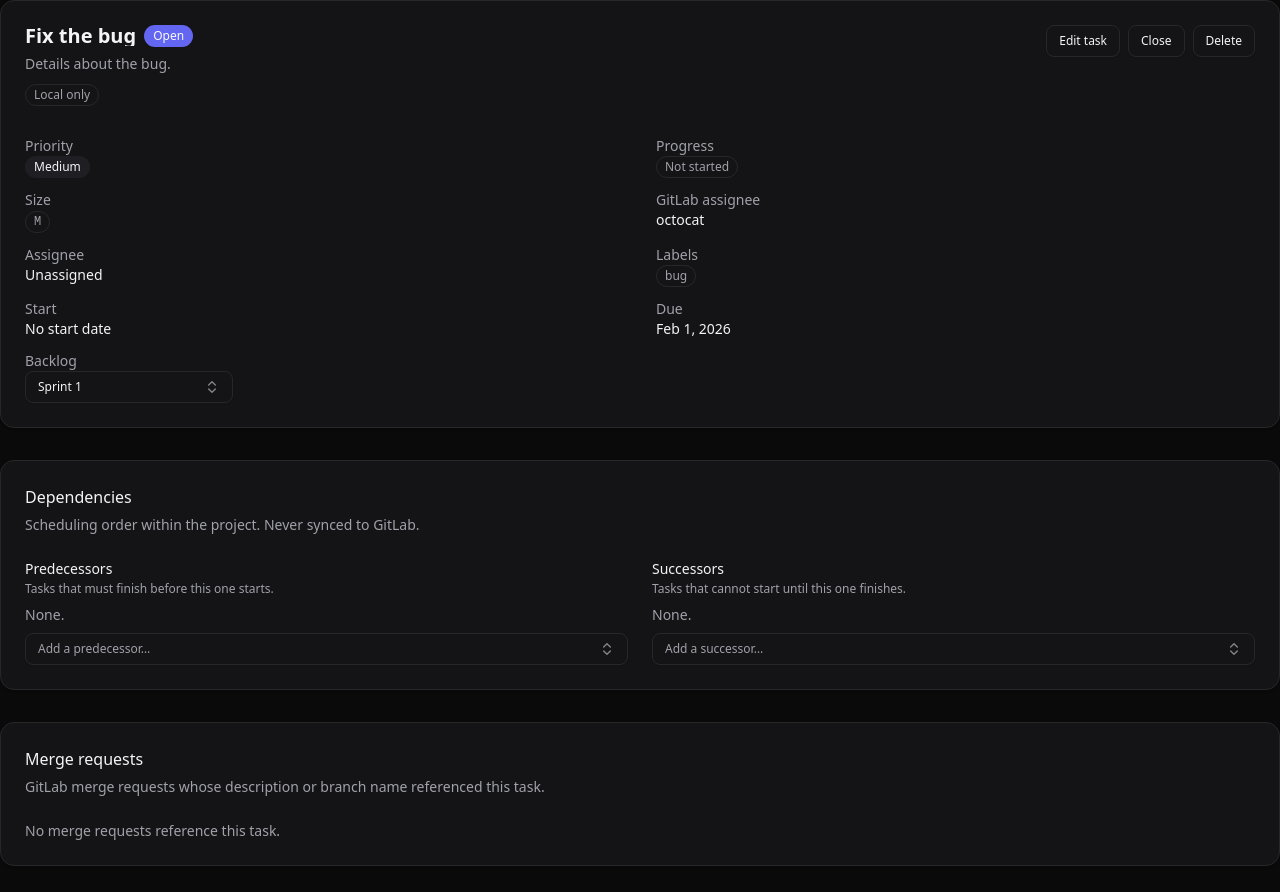
Test case: TaskDetail › leaves the task unchanged when the edit is cancelled
Click the button "Edit task" at (1083, 41), box [1046,25,1120,57]
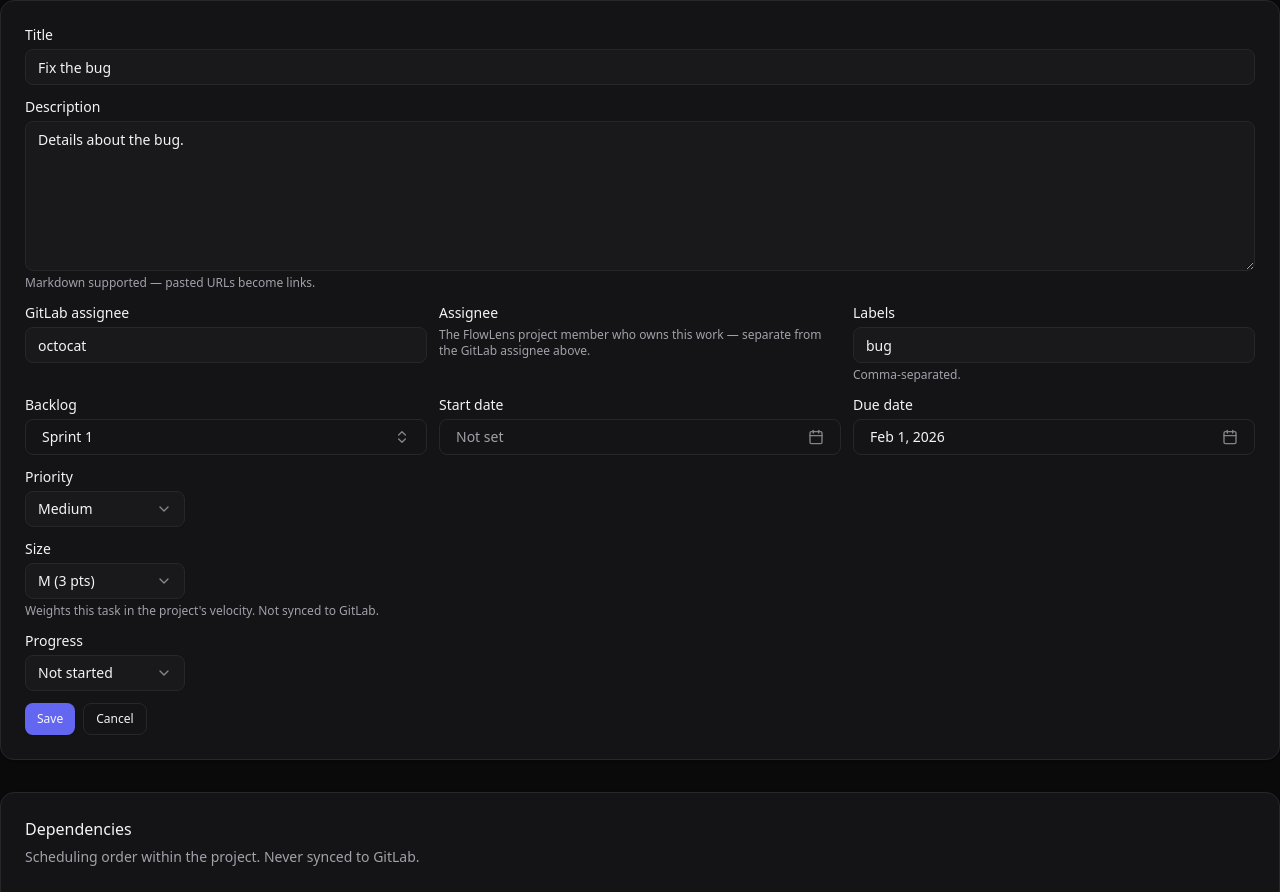
Replace the text in the field labelled "Title" with "Discarded" at (640, 67), box [25,49,1255,85]
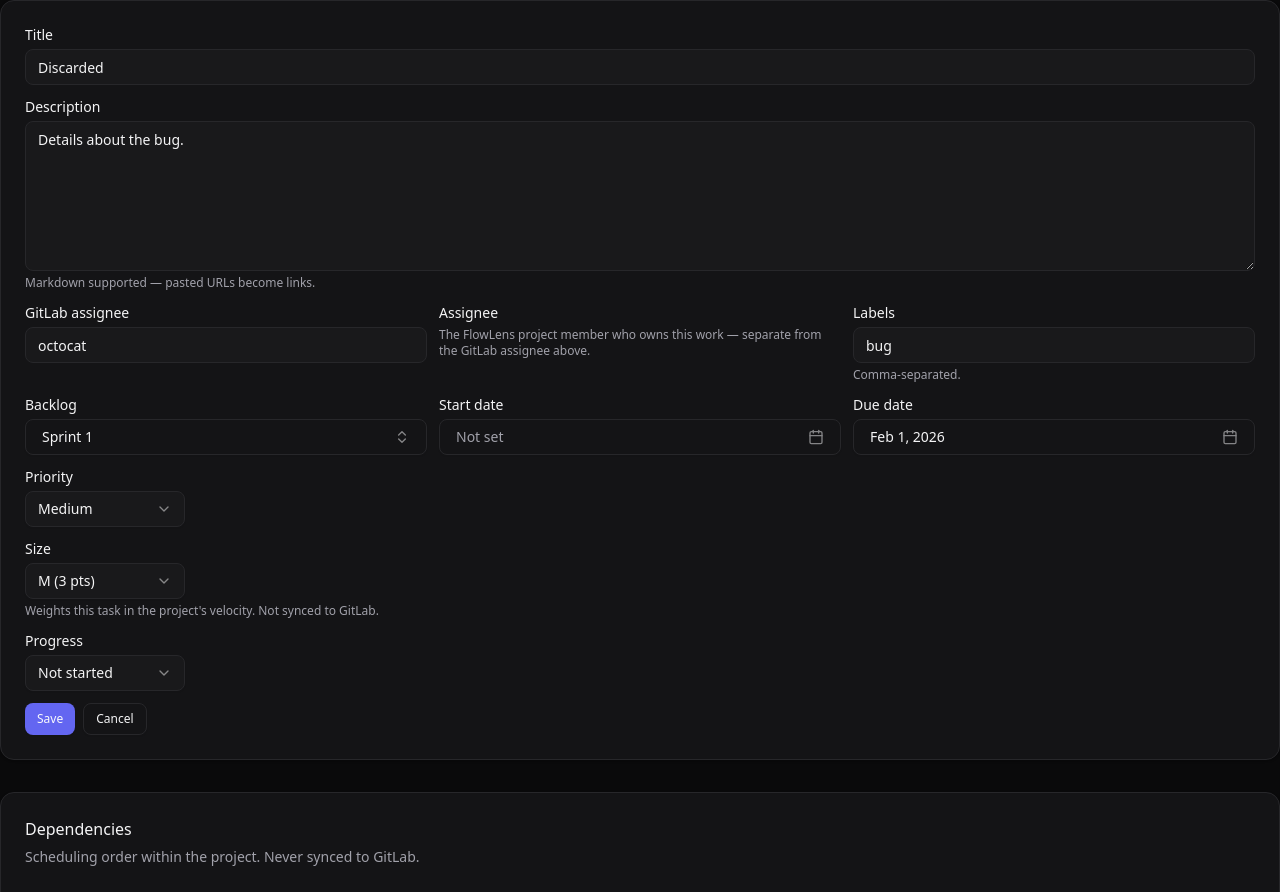
Click the button "Cancel" at (115, 719), box [83,703,147,735]
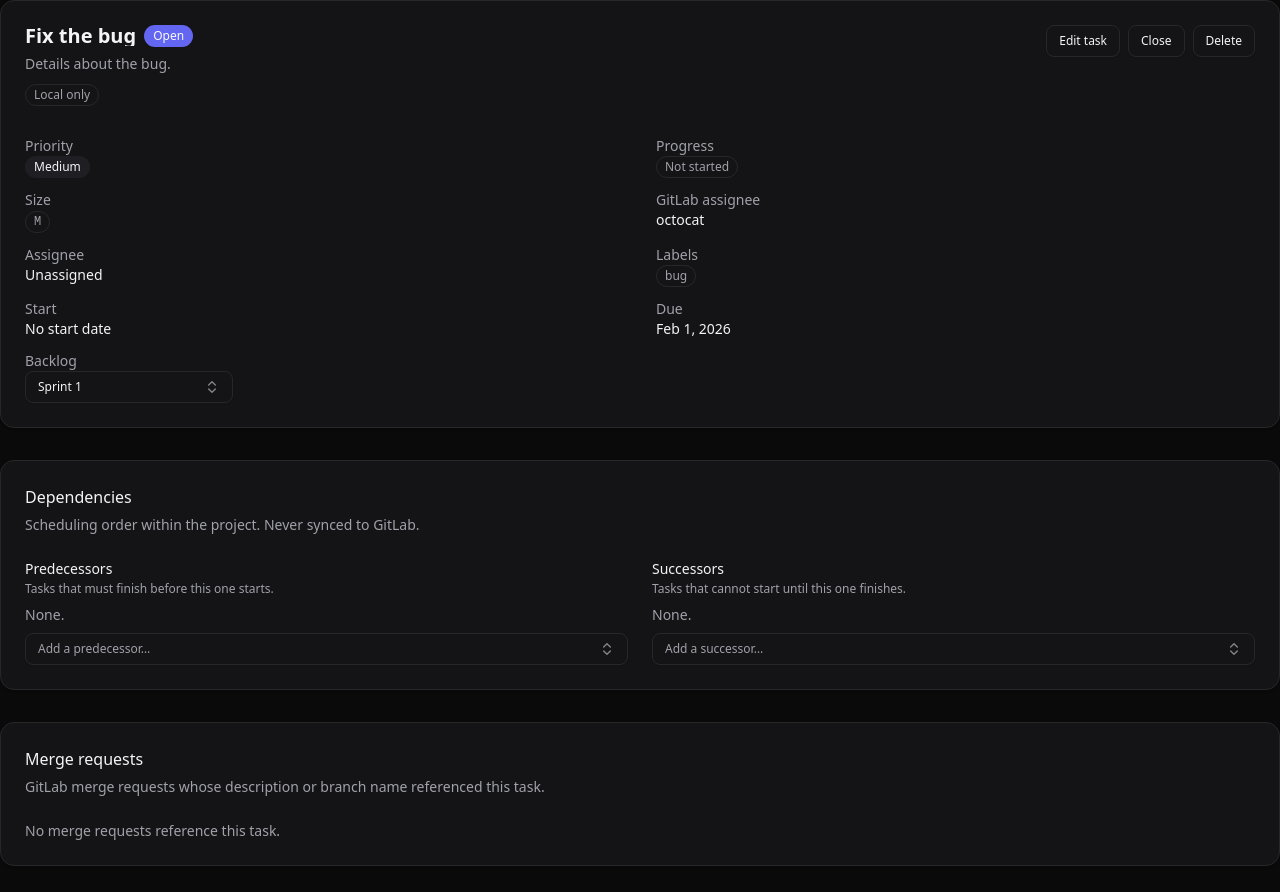
expect the heading "Fix the bug" is shown: met, box [25,26,136,46]
